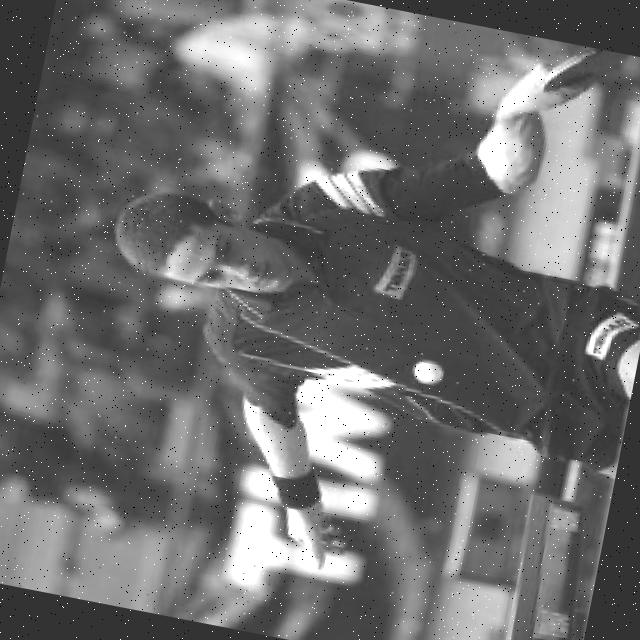ping-pong-ball: (411, 358, 446, 386)
